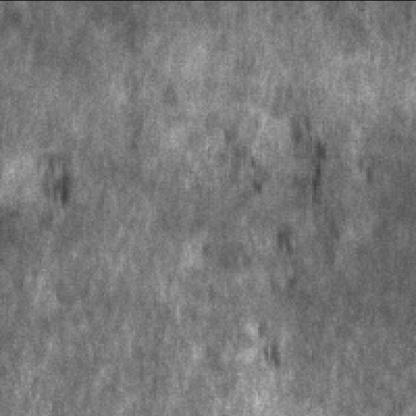rolled-in_scale: (216, 106, 333, 356), (31, 143, 73, 235)
